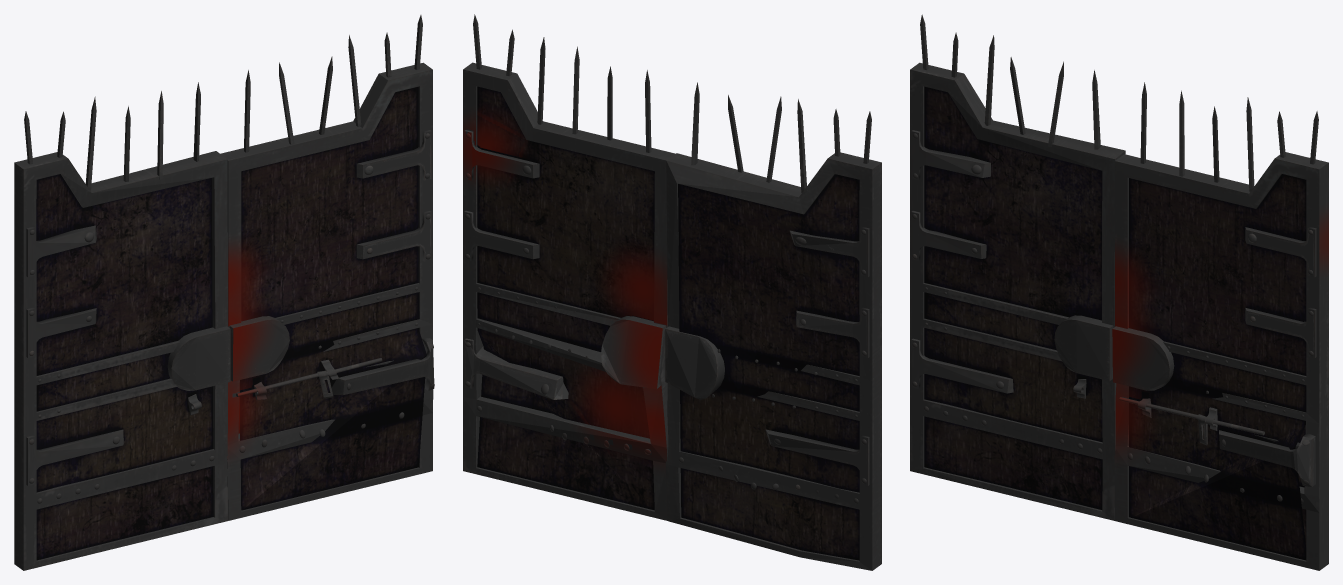
File: door.glb
3 renders of one model, left to right at view 1: azimuth 30°, elevation 25°; view 2: azimuth 150°, elevation 25°; view 3: azimuth 330°, elevation 25°, orthographic.
Parts seen in each view (by area): view 1: Cube.001, Cube.003; view 2: Cube.001, Cube.003; view 3: Cube.003, Cube.001.
Boxes of the visible parts, bbox=[...] form: Cube.001: bbox=[14, 82, 230, 570]; Cube.003: bbox=[220, 15, 434, 520]; Cube.001: bbox=[665, 82, 881, 570]; Cube.003: bbox=[463, 14, 675, 520]; Cube.003: bbox=[1112, 82, 1328, 570]; Cube.001: bbox=[910, 14, 1125, 520].
Size of the model in its own units: 6.4 by 6.83 by 0.8567.
Materials: 1 (1 with a texture image).
